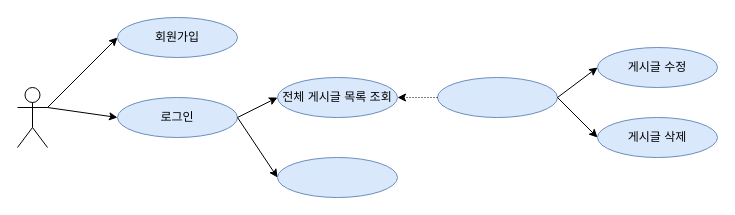
Some shapes in this 735 by 215 pixel diagram are drawn without their labels. The shapes that lost their labels are listed below. From the top down, each one's box as (x1, y1, x2, y2) in pixels, then its label:
(16, 86, 48, 148): Actor
(436, 76, 558, 118): 게시글 조회
(276, 156, 398, 198): 게시글 작성
